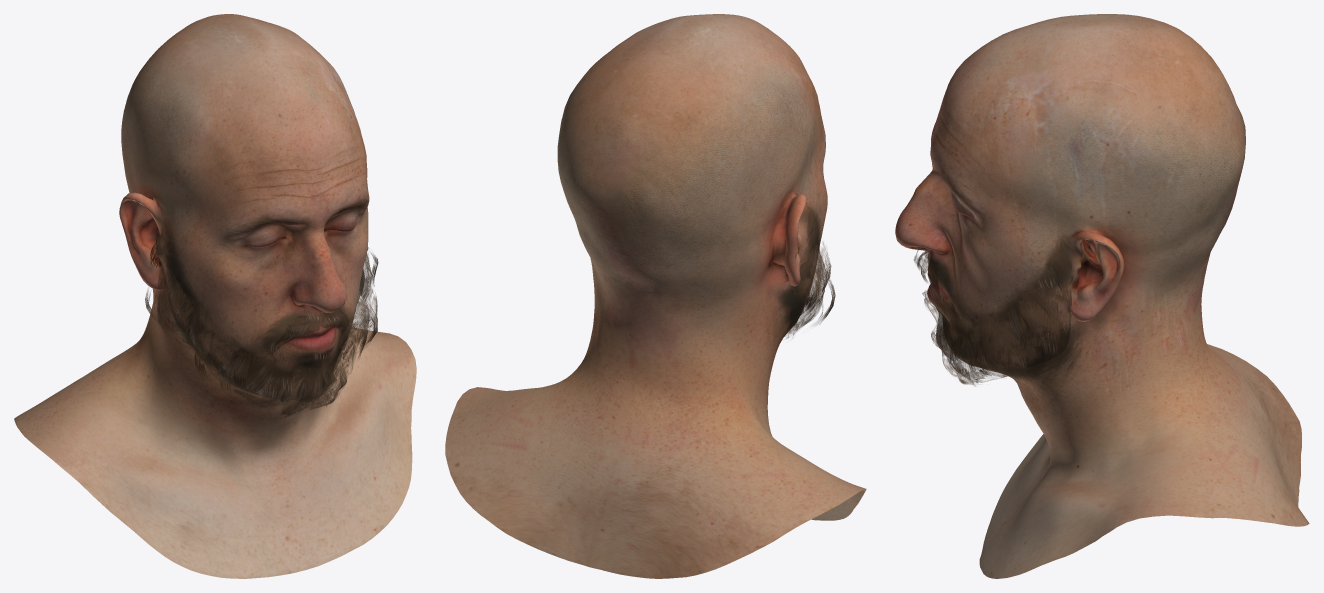
File: bearded.glb
3 renders of one model, left to right at view 1: azimuth 30°, elevation 25°; view 2: azimuth 150°, elevation 25°; view 3: azimuth 270°, elevation 25°, orthographic. The views are drawn at different scales.
Parts seen in each view (by area): view 1: Head_Hair_Headmesh, polySurface3, Head_Beard_Cap, BeardDetails_Var_01_Geo, BeardDetails_Var_02_Geo; view 2: Head_Hair_Headmesh, polySurface3, BeardDetails_Var_01_Geo, Head_Beard_Cap; view 3: Head_Hair_Headmesh, polySurface3, Head_Beard_Cap, BeardDetails_Var_01_Geo, BeardDetails_Var_02_Geo.
Boxes of the visible parts, x1,y1,x2,y2 form: Head_Hair_Headmesh: (14, 14, 416, 578); polySurface3: (154, 221, 377, 418); Head_Beard_Cap: (167, 268, 364, 402); BeardDetails_Var_01_Geo: (145, 233, 378, 405); BeardDetails_Var_02_Geo: (159, 283, 370, 414); Head_Hair_Headmesh: (445, 14, 866, 578); polySurface3: (785, 205, 827, 338); BeardDetails_Var_01_Geo: (803, 213, 835, 324); Head_Beard_Cap: (789, 238, 822, 328); Head_Hair_Headmesh: (895, 14, 1309, 578); polySurface3: (917, 245, 1083, 385); Head_Beard_Cap: (928, 254, 1070, 367); BeardDetails_Var_01_Geo: (921, 249, 1071, 383); BeardDetails_Var_02_Geo: (914, 250, 1058, 380).
Size of the model in its own units: 8.46 by 10.89 by 7.69.
Materials: 3 (3 with a texture image).
